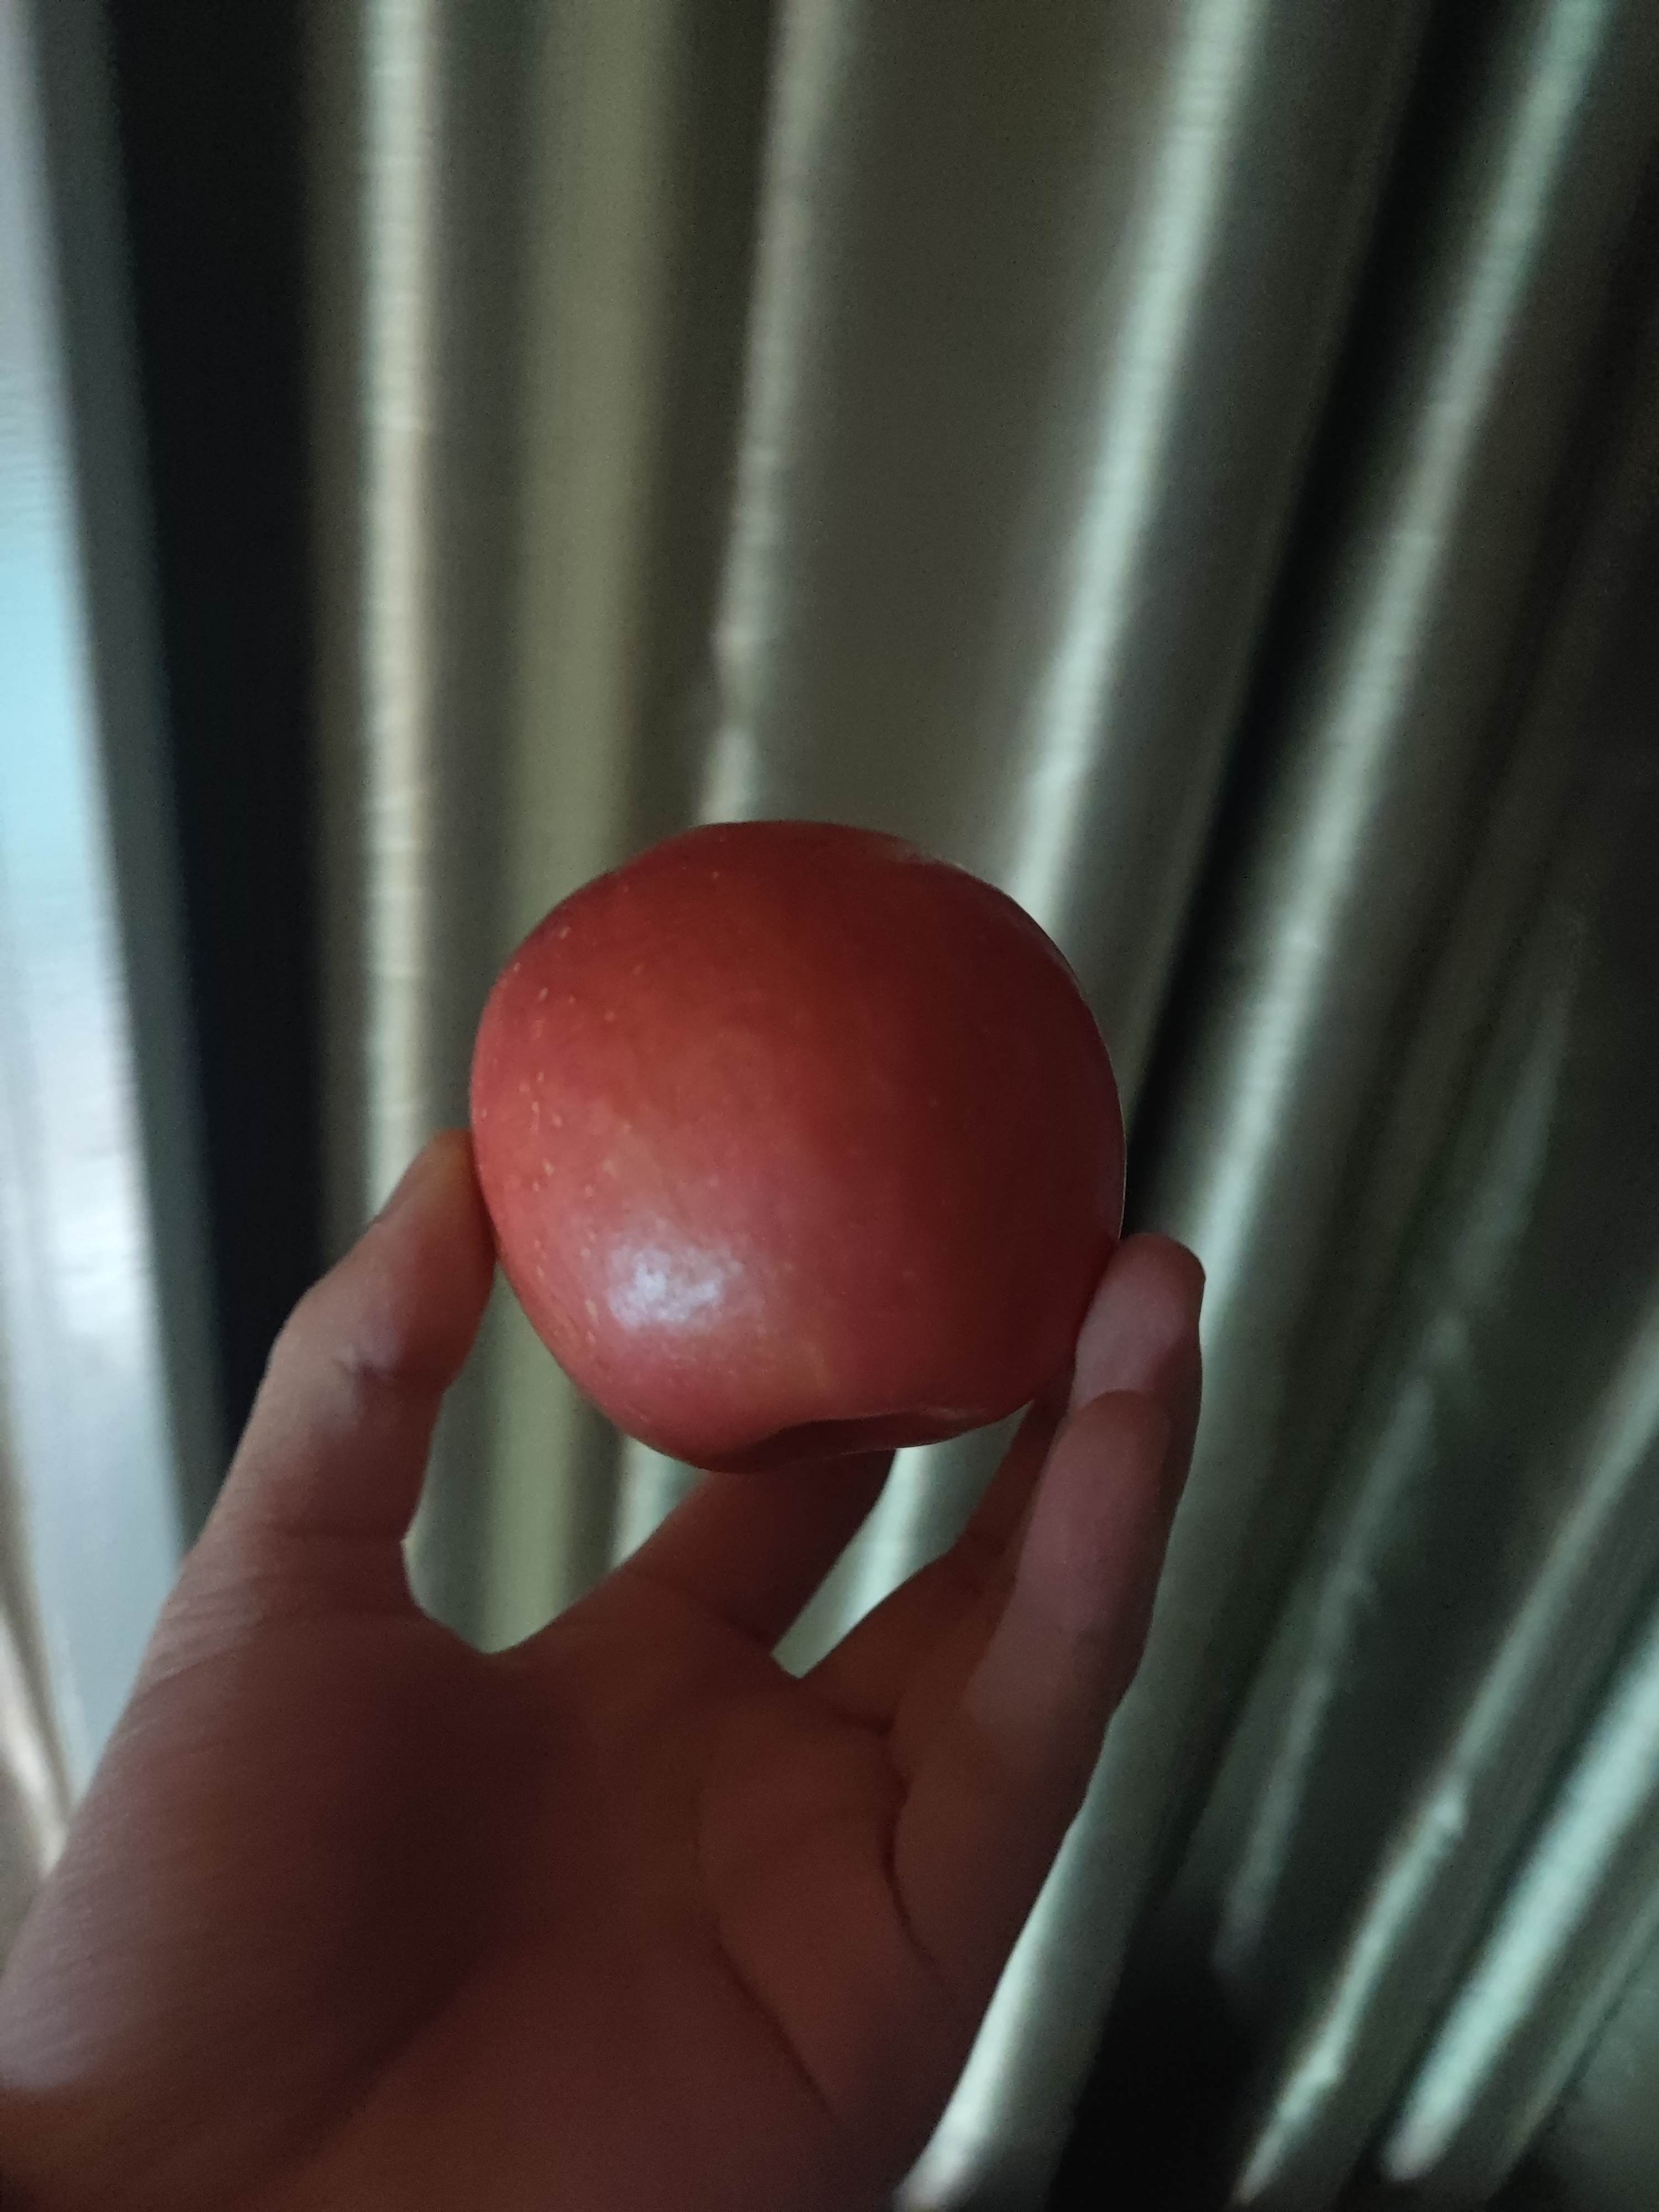apple: (465, 820, 1168, 1463)
